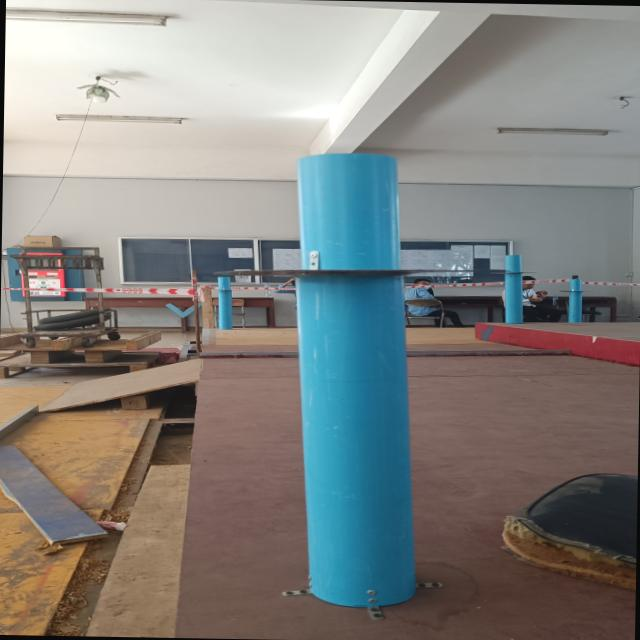pole: (309, 120, 494, 437)
